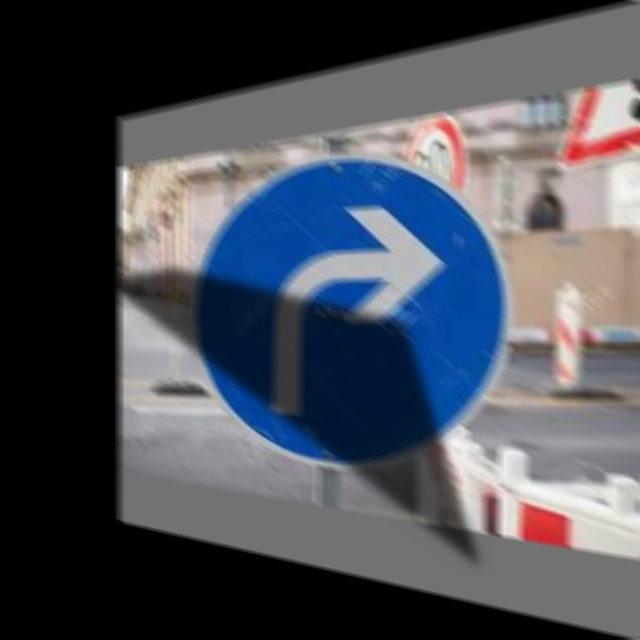Compulsory_Turn_Right_Ahead: (199, 132, 513, 473)
